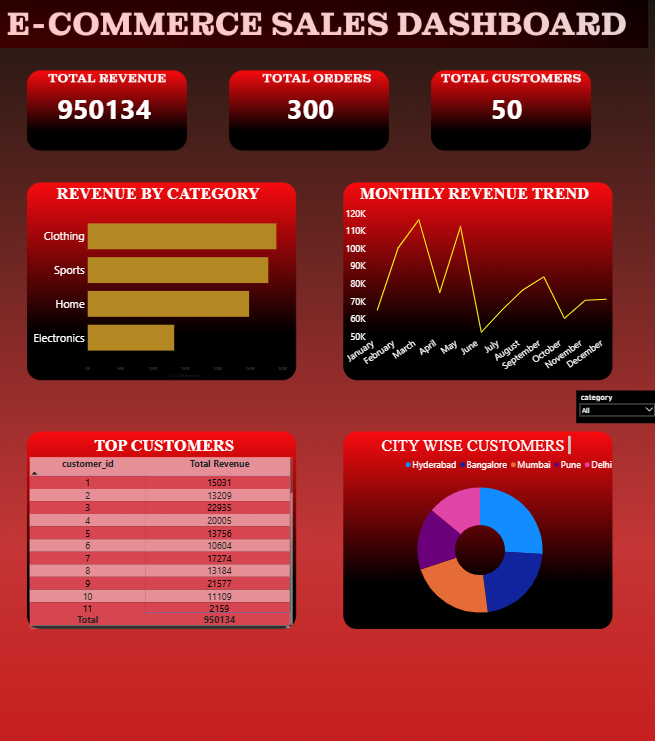

This screenshot's page, from the dashboard's own definition file:
{"tool":"powerbi","page":{"name":"Page 1","canvas":[1946,2190],"ordinal":0},"visuals":[{"type":"card","fields":{"Values":["orders.Total Revenue"]},"box":[32,192,576,256],"z":0},{"type":"card","fields":{"Values":["orders.Total Orders"]},"box":[640,192,576,256],"z":1000},{"type":"card","fields":{"Values":["customer.Total Customers"]},"box":[1216,192,576,256],"z":2000},{"type":"clusteredBarChart","fields":{"Category":["products.category"],"Y":["orders.Total Revenue"]},"box":[96,608,768,512],"z":3000},{"type":"textbox","box":[96,544,768,96],"z":4000},{"type":"lineChart","fields":{"Category":["orders.order_date.Variation.Date Hierarchy.Month"],"Y":["orders.Total Revenue"]},"box":[1024,608,800,512],"z":5000},{"type":"tableEx","fields":{"Values":["customer.customer_id","orders.Total Revenue"]},"box":[96,1344,784,512],"z":6000},{"type":"textbox","box":[1024,544,768,96],"z":7000},{"type":"textbox","box":[128,1280,736,96],"z":8000},{"type":"donutChart","fields":{"Y":["customer.Total Customers"],"Category":["customer.city"]},"box":[1024,1344,800,512],"z":9000},{"type":"textbox","box":[1120,1280,576,64],"z":10000},{"type":"slicer","fields":{"Values":["products.category"]},"box":[1706,1152,240,96],"z":11000}]}

Visuals, with their boxes in screenshot pixels (x1, y1, x2, y2), scaled from the page's 1946x2190 canvas onto the 655x741 screenshot:
card - orders.Total Revenue: (11, 65, 205, 152)
card - orders.Total Orders: (215, 65, 409, 152)
card - customer.Total Customers: (409, 65, 603, 152)
clusteredBarChart - products.category x orders.Total Revenue: (32, 206, 291, 379)
textbox: (32, 184, 291, 217)
lineChart - orders.order_date.Variation.Date Hierarchy.Month x orders.Total Revenue: (345, 206, 614, 379)
tableEx - customer.customer_id x orders.Total Revenue: (32, 455, 296, 628)
textbox: (345, 184, 603, 217)
textbox: (43, 433, 291, 466)
donutChart - customer.Total Customers x customer.city: (345, 455, 614, 628)
textbox: (377, 433, 571, 455)
slicer - products.category: (574, 390, 654, 422)
